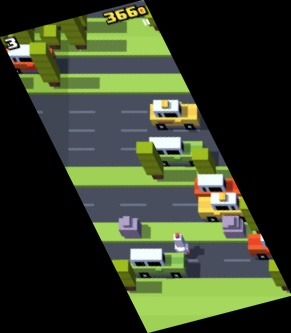car: (197, 192, 257, 222), (130, 248, 186, 280), (149, 100, 204, 130), (148, 137, 206, 164), (1, 45, 55, 73), (192, 174, 249, 200), (247, 231, 291, 259)
duck: (172, 231, 187, 255)
rock: (116, 215, 142, 238), (221, 217, 248, 238)
tree: (29, 43, 61, 88), (135, 142, 165, 181), (59, 12, 89, 48), (238, 199, 266, 235), (107, 260, 137, 290), (267, 256, 291, 293), (9, 13, 35, 46), (139, 3, 165, 31), (191, 148, 215, 178), (38, 23, 62, 46)
